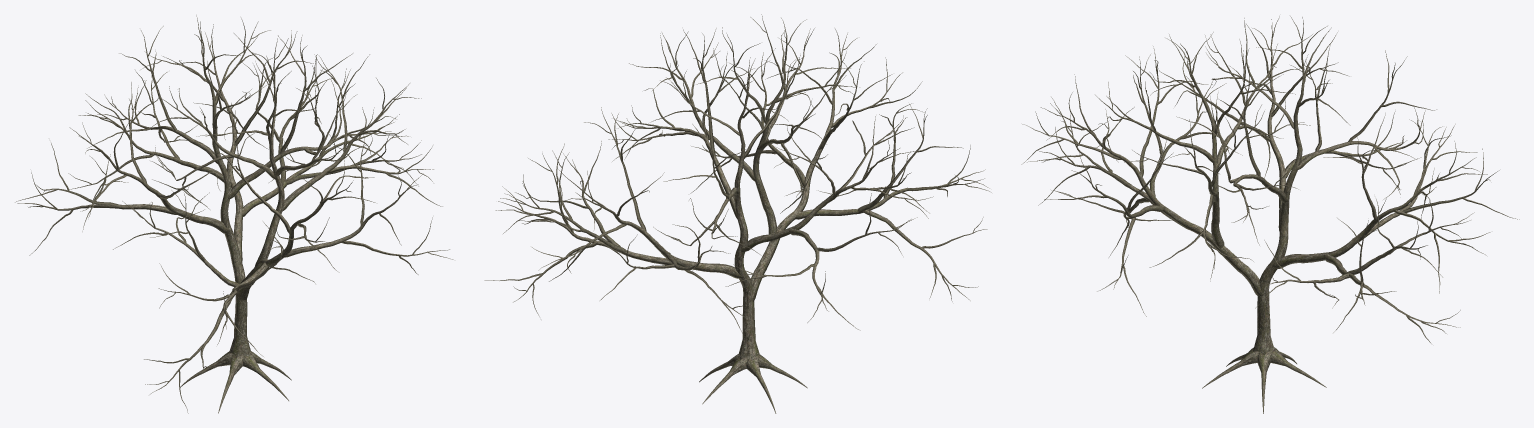
File: DriedLemonTree.fbx
3 views of the same model, side by side, from view 1: azimuth 30°, elevation 25°; view 2: azimuth 150°, elevation 25°; view 3: azimuth 270°, elevation 25° (orthographic).
Parts seen in each view (by area): view 1: structure; view 2: structure; view 3: structure.
Boxes of the visible parts, x1,y1,x2,y2 form: structure: (15,15,453,413); structure: (484,14,991,413); structure: (1021,16,1519,413).
Size of the model in its own units: 535 by 466 by 580.
